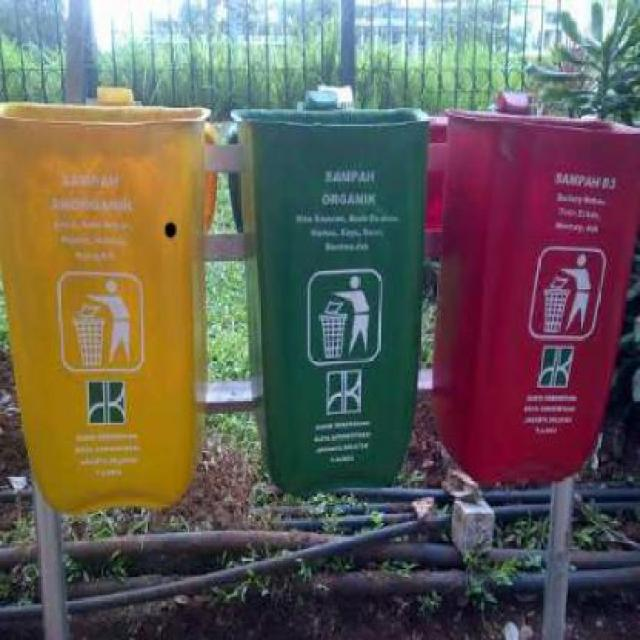garbage container: (2, 86, 223, 528), (224, 80, 439, 523), (440, 94, 638, 503)
